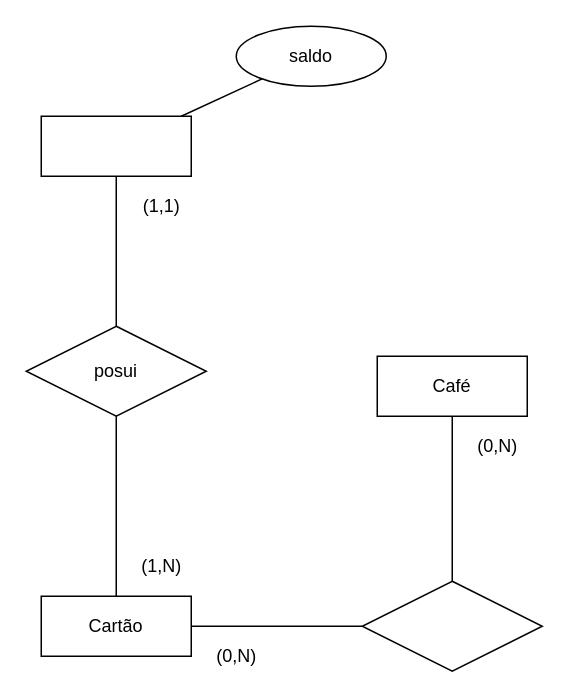
Image size: 569x698. Some labels were removed from this diagram. The shapes that lost their labels are listed below. From the top down, each one's centre as x and y in pixels, then its label:
pixel 115 145: Usuário
pixel 451 625: consome
